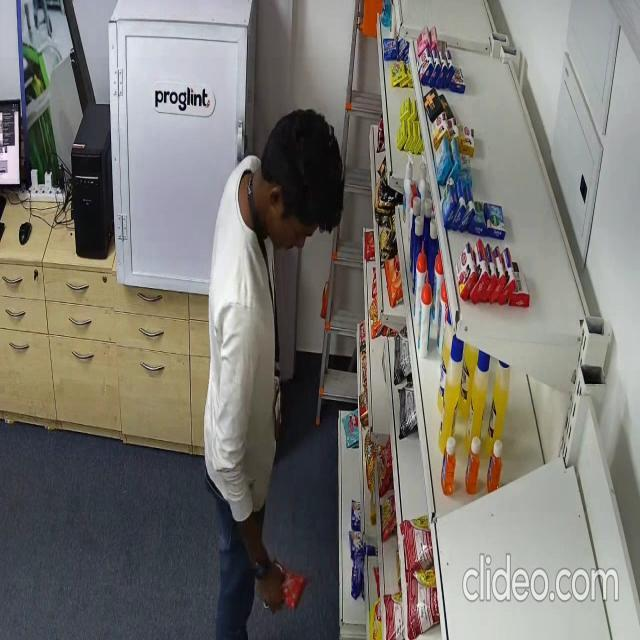normal: (202, 101, 346, 640)
